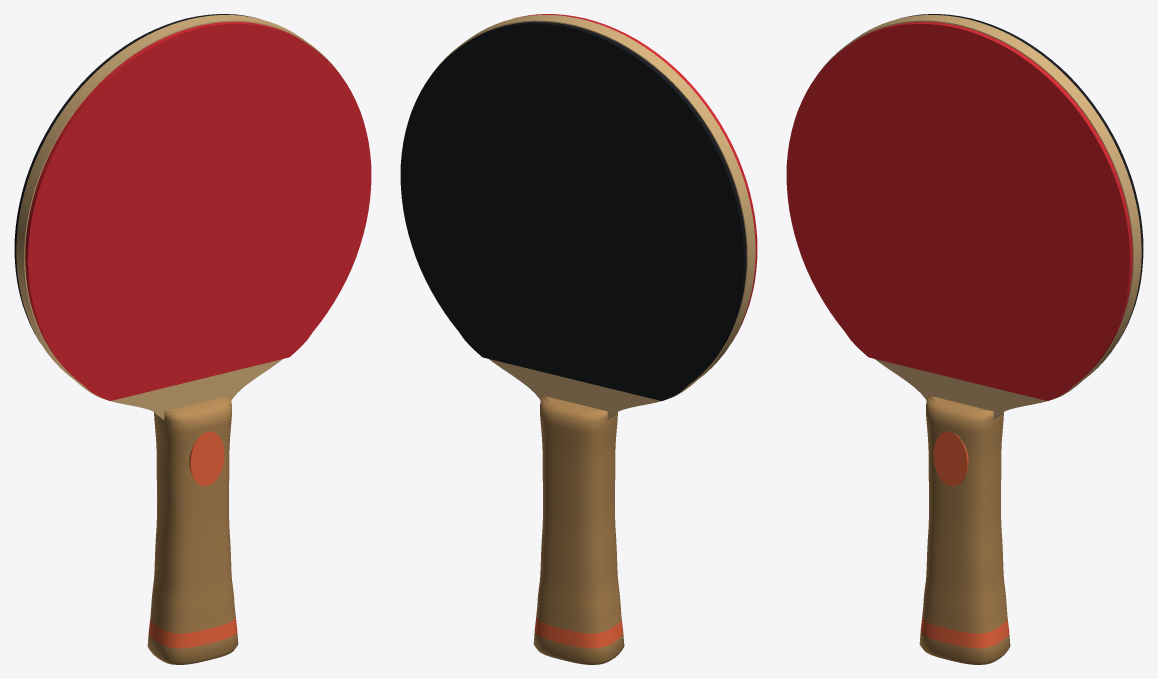
The model's file is paddle.glb.
The picture shows the model from 3 angles, left to right: view 1: azimuth 30°, elevation 25°; view 2: azimuth 150°, elevation 25°; view 3: azimuth 330°, elevation 25°; orthographic projection.
Visible parts, largest first — view 1: blade, handle; view 2: blade, handle; view 3: blade, handle.
Boxes of the visible parts, x1,y1,x2,y2 form: blade: (14,14,371,419); handle: (147,395,238,664); blade: (400,14,757,419); handle: (533,395,624,664); blade: (786,14,1143,419); handle: (919,395,1010,664).
Bounding box in the file's own units: 0.152 × 0.2636 × 0.0256.
